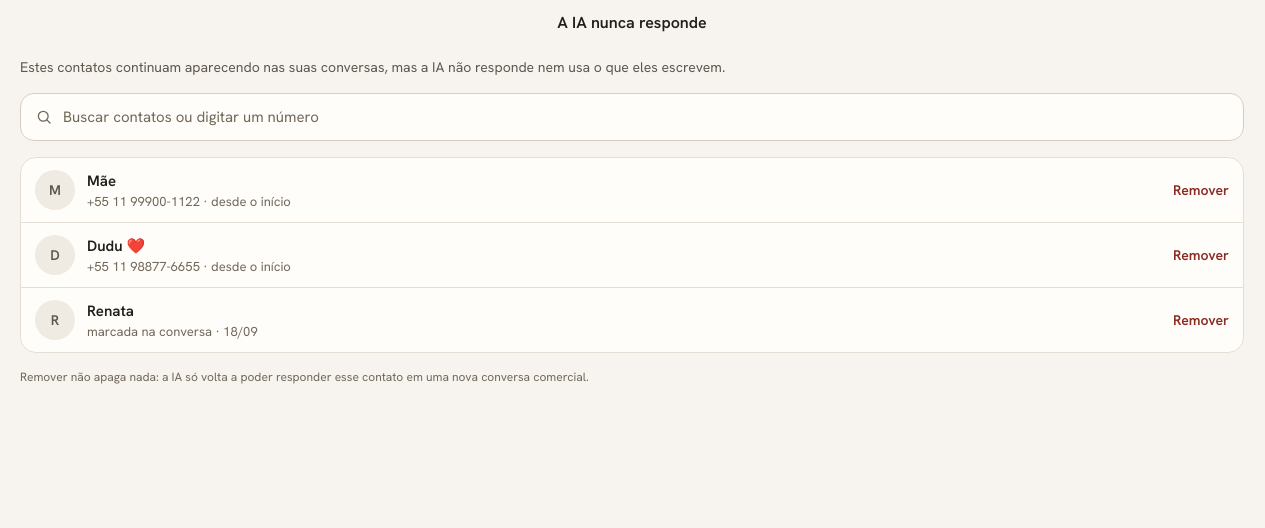
Scenario: Goal140 a busca › Ignorar com falha mantém o campo e mostra o alerta
Expected: the text "Mãe" is shown, [87,171,116,191]
In the search field labelled "Buscar contatos ou digitar um número": point(646, 117) [63,94,1229,140], type "mar"
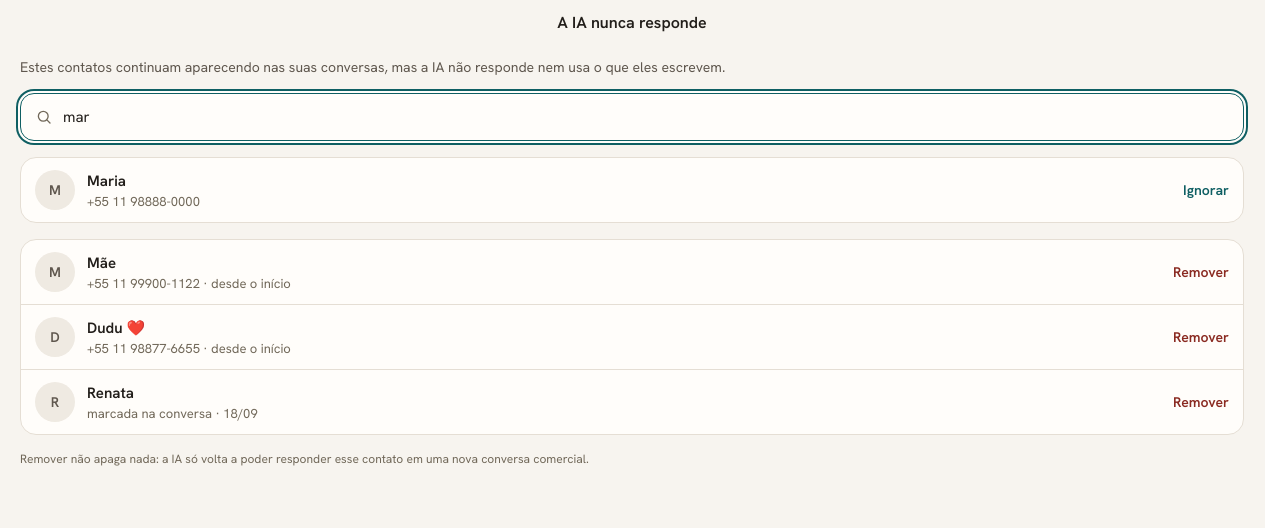
Click the button with aria-label "Ignorar Maria": point(1206, 190) [1175,170,1237,210]
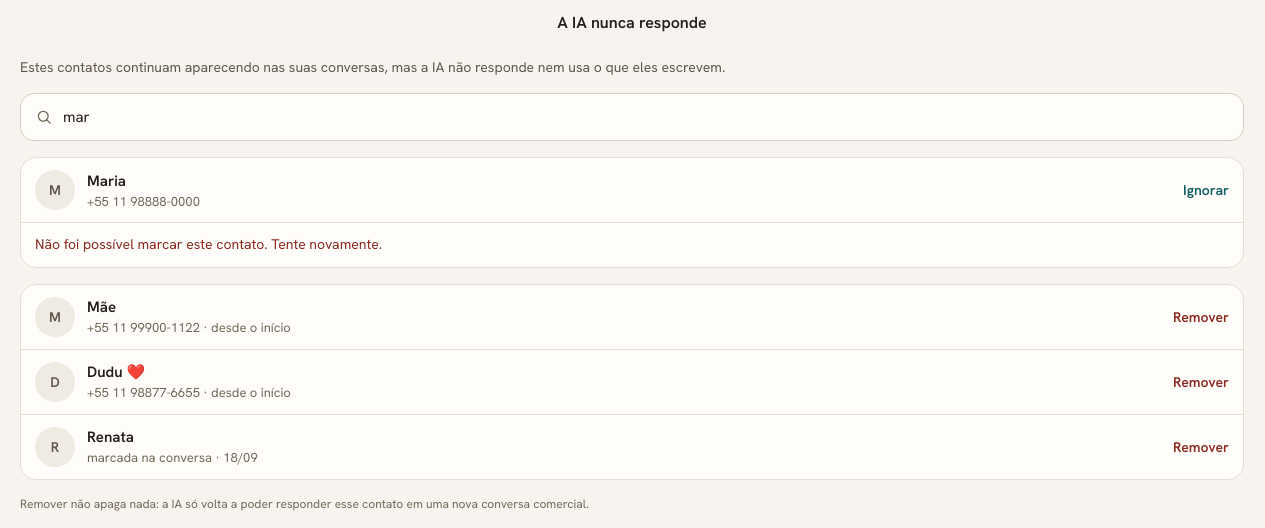
Expected: the message reads "Não foi possível marcar este contato. Tente novamente.", [35,235,382,253]
